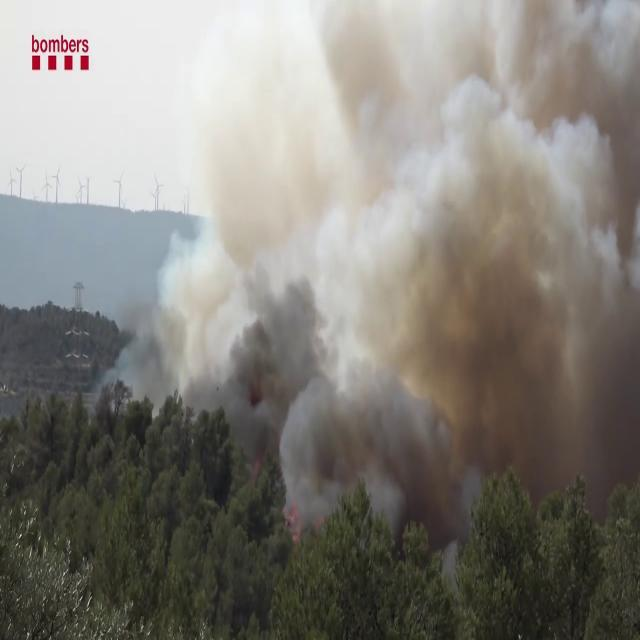Smoke: (117, 0, 640, 522)
